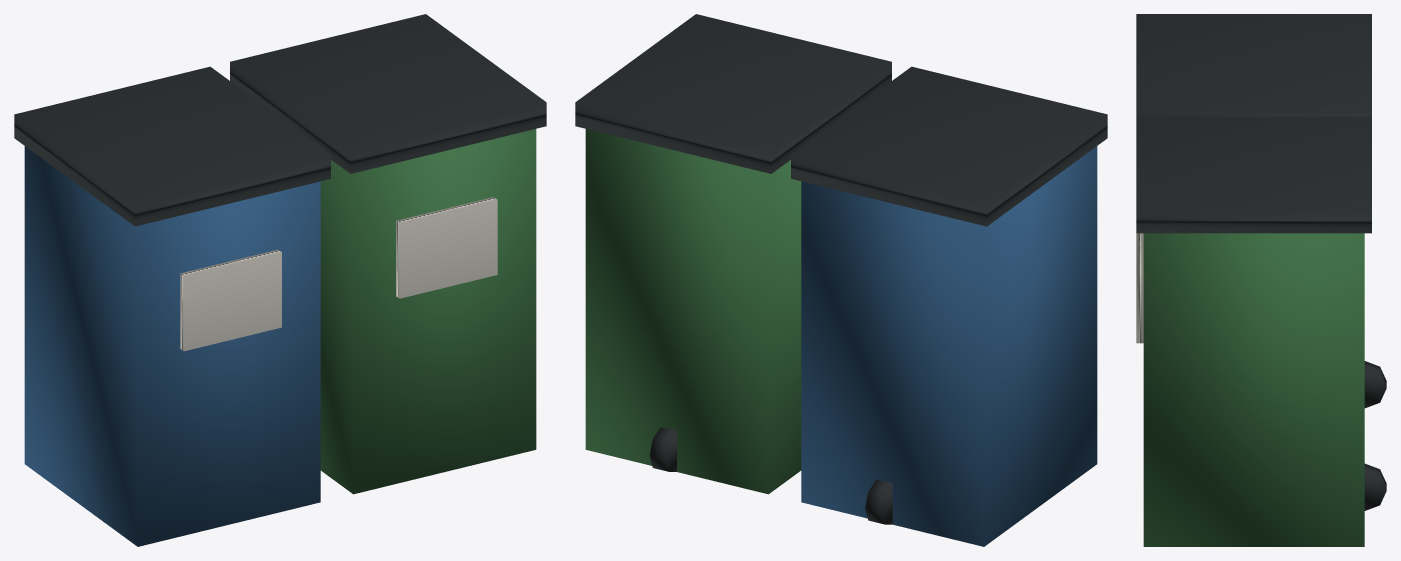
Rendered from street_recycling.glb.
3 views of the same model, side by side, from view 1: azimuth 30°, elevation 25°; view 2: azimuth 150°, elevation 25°; view 3: azimuth 270°, elevation 25° (orthographic). The views are drawn at different scales.
Parts seen in each view (by area): view 1: street_recycling; view 2: street_recycling; view 3: street_recycling.
Part boxes in pixels (left/top/right/bottom): street_recycling: left=14, top=14, right=546, bottom=546; street_recycling: left=575, top=14, right=1107, bottom=546; street_recycling: left=1136, top=14, right=1386, bottom=546.
Size of the model in its own units: 1.26 by 1.02 by 0.68.
